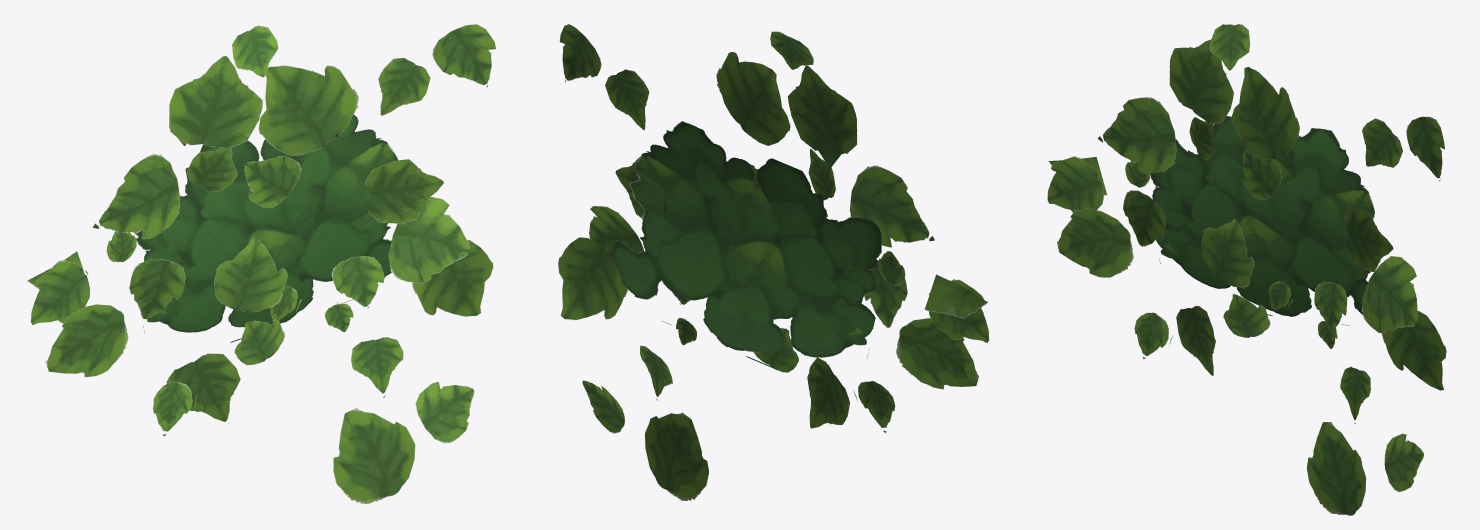
The model's file is ivy.fbx.
3 renders of one model, left to right at view 1: azimuth 30°, elevation 25°; view 2: azimuth 150°, elevation 25°; view 3: azimuth 330°, elevation 25°, orthographic. The views are drawn at different scales.
Visible parts, largest first — view 1: Ivy0.001; view 2: Ivy0.001; view 3: Ivy0.001.
Part boxes in pixels (left/top/right/bottom): Ivy0.001: left=27, top=24, right=495, bottom=504; Ivy0.001: left=558, top=24, right=989, bottom=500; Ivy0.001: left=1047, top=24, right=1446, bottom=515.
Bounding box in the file's own units: 513 × 520 × 72.46.
Materials: 2 (2 with a texture image).
